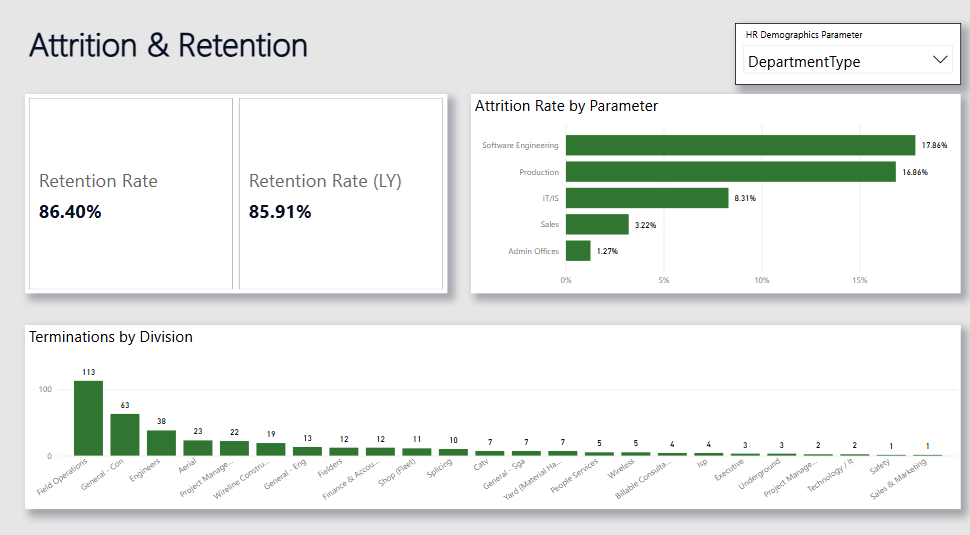

What the dashboard file says about the page in this screenshot:
{"tool":"powerbi","page":{"name":"Attrition & Retention","canvas":[1280,720],"ordinal":3},"visuals":[{"type":"slicer","fields":{"Values":["HR Demographics Parameter.HR Demographics Parameter"]},"box":[968.3,41.8,295.8,80.8],"z":0},{"type":"barChart","title":"Attrition Rate by Parameter","fields":{"Category":["DepartmentType.DepartmentType"],"Y":["Table1.Attrition_Rate_ByDept"]},"box":[623.4,134.2,640.7,261.2],"z":1000},{"type":"cardVisual","fields":{"Data":["Table1.Retention_Rate","Table1.Retention_Rate_LY"]},"box":[39,134.2,552.7,261.2],"z":2000},{"type":"clusteredColumnChart","title":"Terminations by Division","fields":{"Category":["Division.Division"],"Y":["Table1.Count_Terminated"]},"box":[39,437.2,1225.2,241],"z":3000},{"type":"textbox","box":[39,34.6,434.4,93.8],"z":4000}]}

Visuals, with their boxes in screenshot pixels (x1, y1, x2, y2), scaled from the page's 1280x720 canvas onto the 970x535 screenshot:
slicer - HR Demographics Parameter.HR Demographics Parameter: (left=734, top=31, right=958, bottom=91)
"Attrition Rate by Parameter" barChart: (left=472, top=100, right=958, bottom=294)
cardVisual - Table1.Retention_Rate x Table1.Retention_Rate_LY: (left=30, top=100, right=448, bottom=294)
"Terminations by Division" clusteredColumnChart: (left=30, top=325, right=958, bottom=504)
textbox: (left=30, top=26, right=359, bottom=95)
